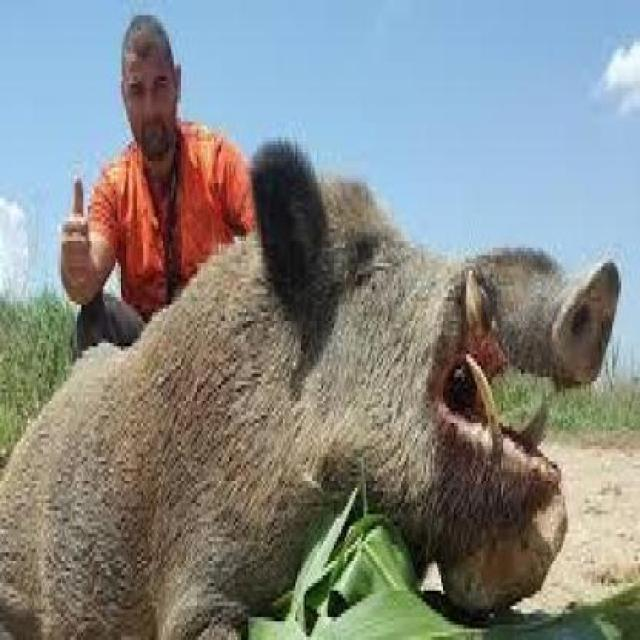wildboar: (0, 137, 626, 640)
